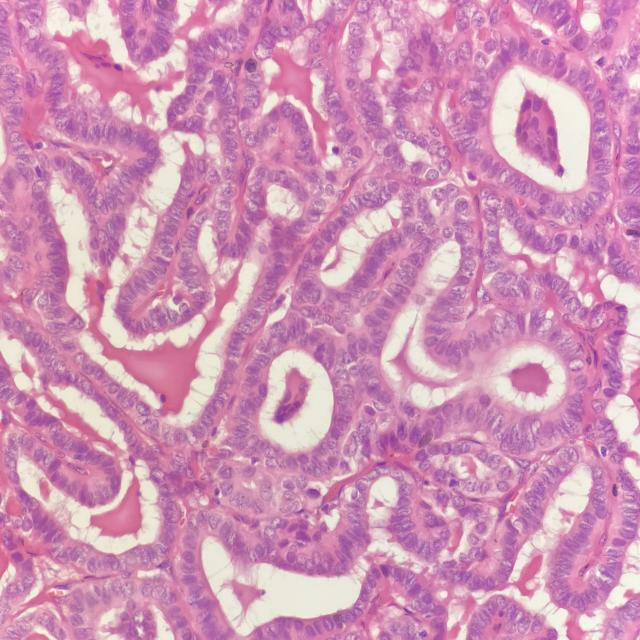TC: (228, 317, 263, 341), (133, 264, 162, 292), (382, 278, 419, 299), (418, 158, 442, 190), (177, 420, 201, 452), (448, 193, 473, 223), (362, 371, 385, 401), (484, 149, 502, 186), (458, 252, 480, 281), (317, 288, 339, 317), (290, 215, 314, 241), (481, 203, 503, 231), (305, 193, 329, 218), (335, 384, 356, 412), (348, 189, 368, 218), (452, 134, 481, 154), (50, 147, 71, 174), (177, 223, 203, 244), (64, 310, 87, 333), (216, 183, 242, 203), (242, 195, 264, 218), (217, 147, 245, 165), (517, 173, 533, 203), (445, 279, 470, 297), (481, 257, 503, 275), (125, 388, 141, 412), (244, 129, 260, 152), (426, 330, 438, 353)
